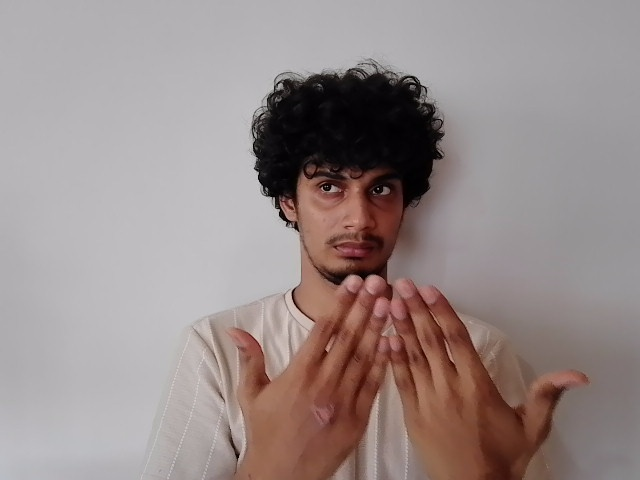thankyou: (230, 274, 591, 480)
